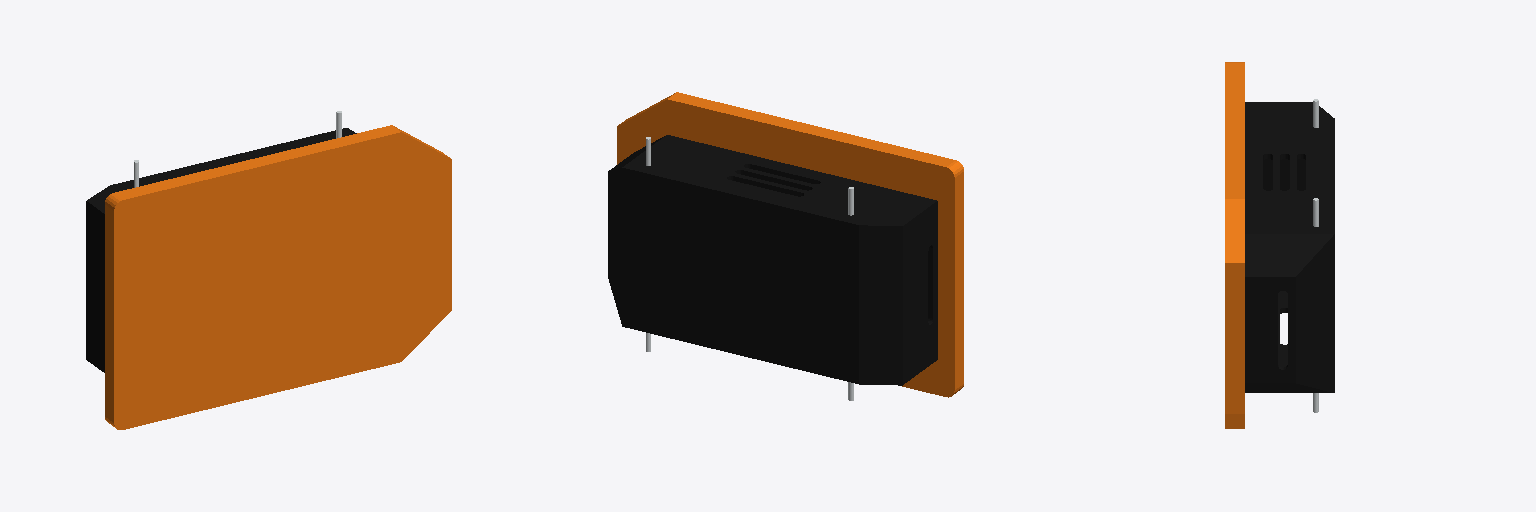
The model's file is body.obj.
The picture shows the model from 3 angles: view 1: azimuth 30°, elevation 25°; view 2: azimuth 150°, elevation 25°; view 3: azimuth 270°, elevation 25°; orthographic projection.
Visible parts, largest first — view 1: body; view 2: body; view 3: body.
Boxes of the visible parts, x1=… form: body: x1=86, y1=111, x2=451, y2=429; body: x1=608, y1=92, x2=963, y2=400; body: x1=1225, y1=62, x2=1334, y2=428.
Bounding box in the file's own units: 0.4 × 0.26 × 0.112.